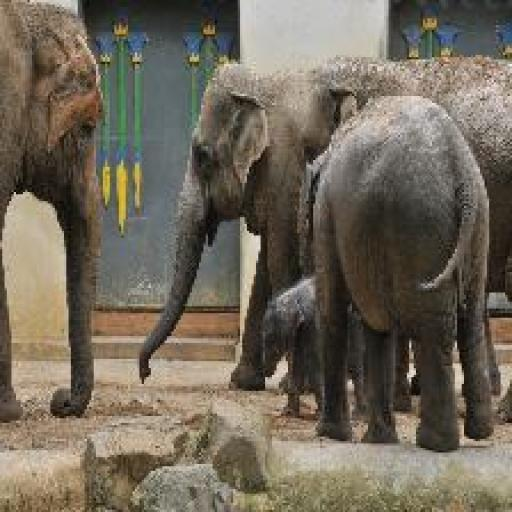Elephant: (137, 55, 510, 420), (300, 92, 498, 450), (0, 0, 105, 423), (258, 272, 412, 418)
